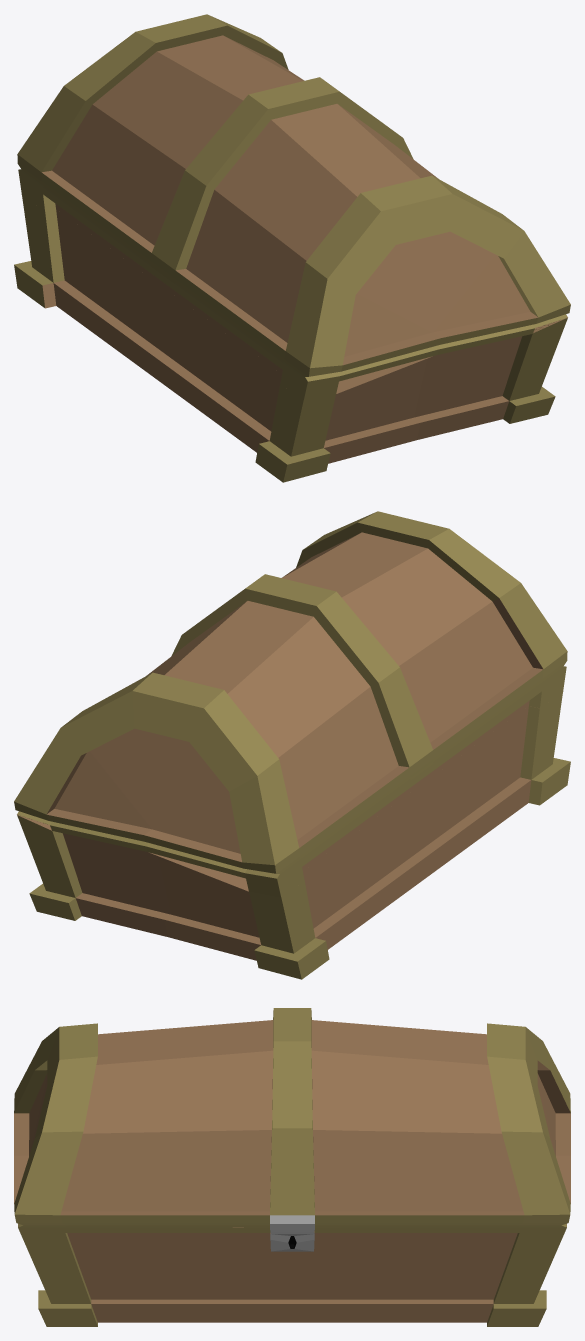
3 renders of one model, top to bottom at view 1: azimuth 30°, elevation 25°; view 2: azimuth 150°, elevation 25°; view 3: azimuth 270°, elevation 25°, orthographic. The views are drawn at different scales.
Parts seen in each view (by area): view 1: polySurface1, polySurface2; view 2: polySurface1, polySurface2; view 3: polySurface1, polySurface2.
Part boxes in pixels (x1,y1,x2,y2): polySurface1: (17,14,570,400); polySurface2: (14,195,567,482); polySurface1: (14,511,567,897); polySurface2: (17,692,570,979); polySurface1: (14,1008,570,1233); polySurface2: (18,1224,566,1326).
Bounding box in the file's own units: 14.12 × 12.02 × 24.82.
